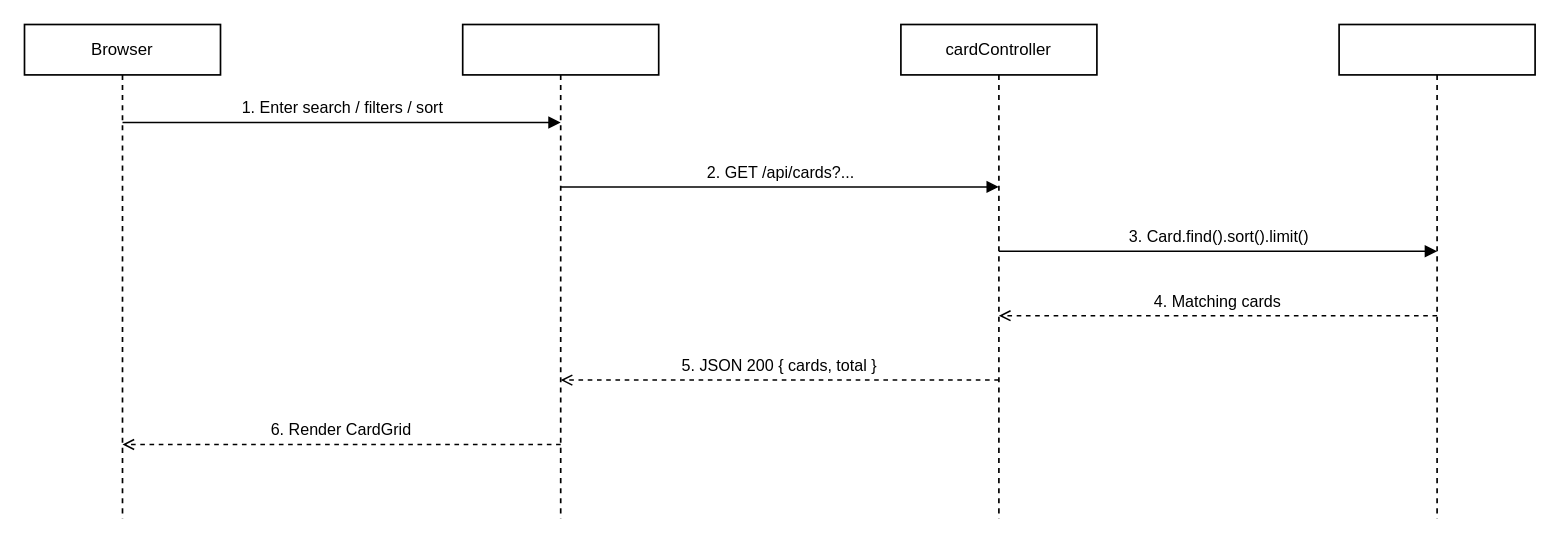
Image size: 1561x545. Some labels were removed from this diagram. The box of each missing label's shape, as (x1, y1, x2, y2) in pixels:
HomePage: (461, 23, 659, 519)
MongoDB: (1338, 23, 1535, 519)
